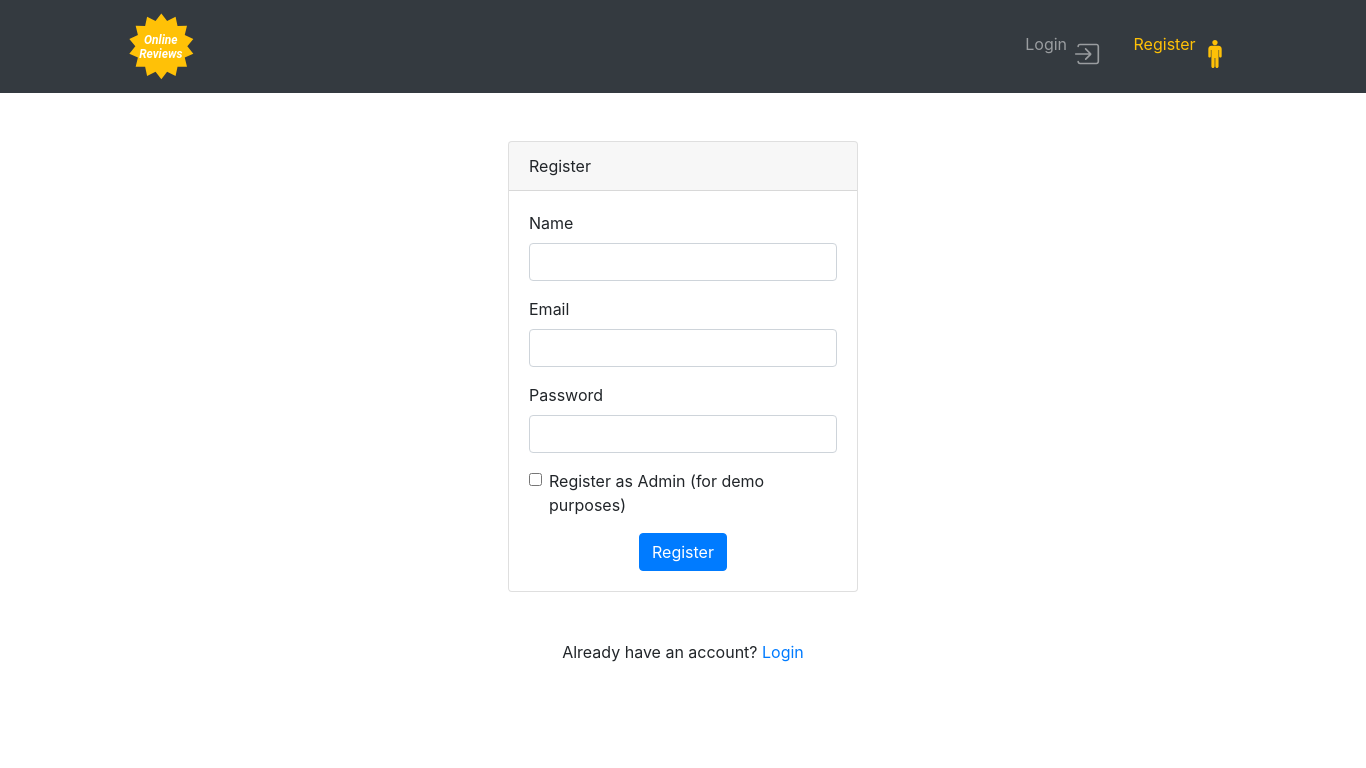
Register › should see register validation error messages
This screenshot has width=1366, height=768.
Click the submit button: x=683, y=552 [639,533,727,571]
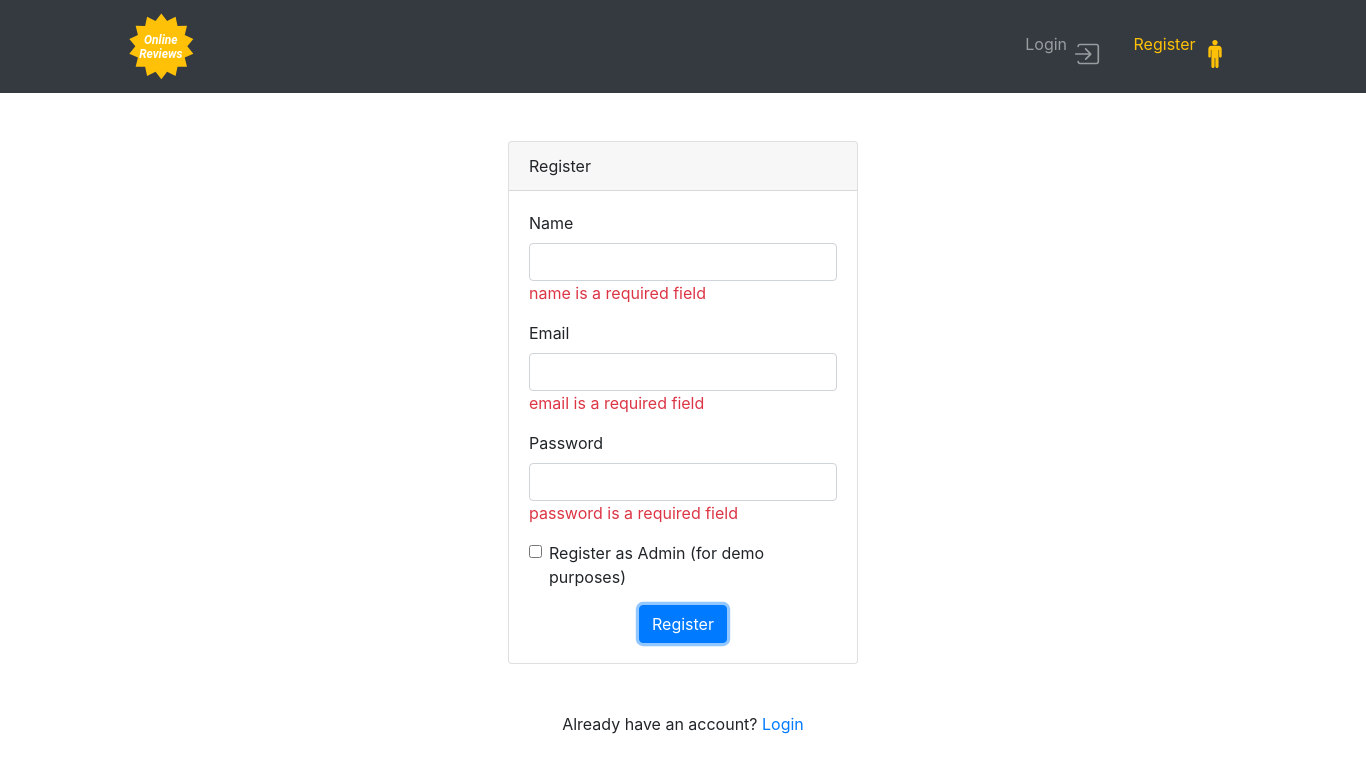
Expected: the text "name is a required field" is shown, [529,283,706,303]
Expected: the text "email is a required field" is shown, [529,393,704,413]
Expected: the text "password is a required field" is shown, [529,503,738,523]
